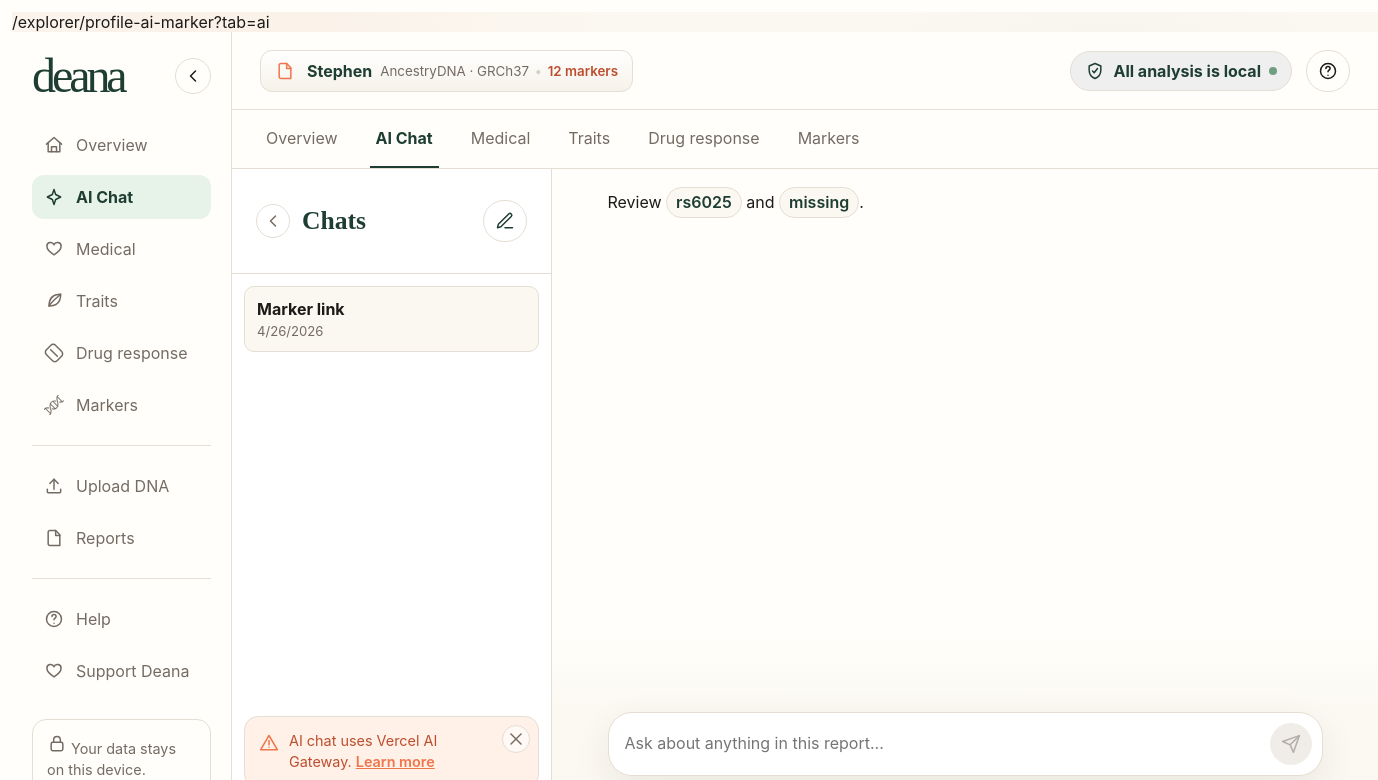
Deana app › opens deana marker chips in the chat inspector
Check: the text "Review rs6025 and missing ." is shown, box [608,187,864,218]
Click the button "rs6025" at coordinates (704, 202), box [666,187,742,218]
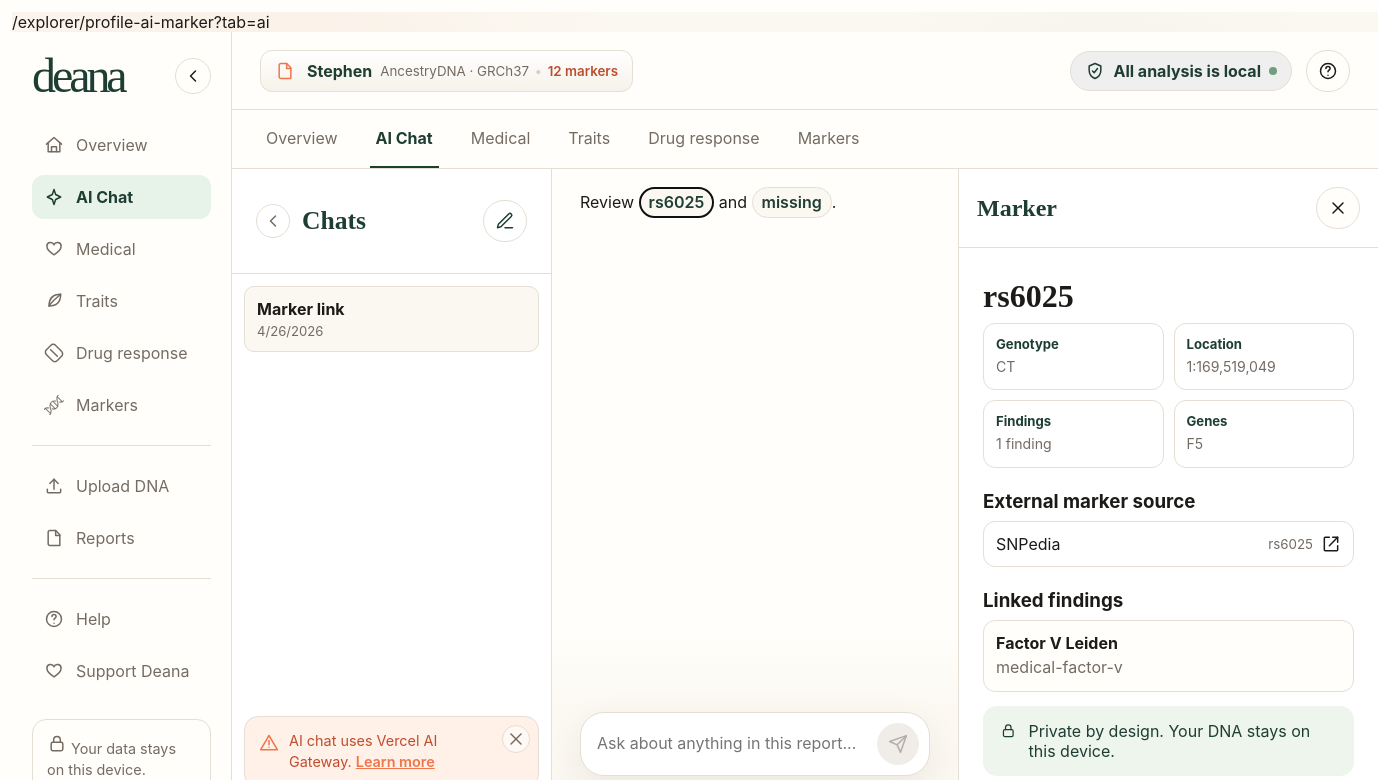
Check: the heading "rs6025" is shown, box [983,278,1074,314]
Click the button "missing" at coordinates (792, 202), box [752,187,832,218]
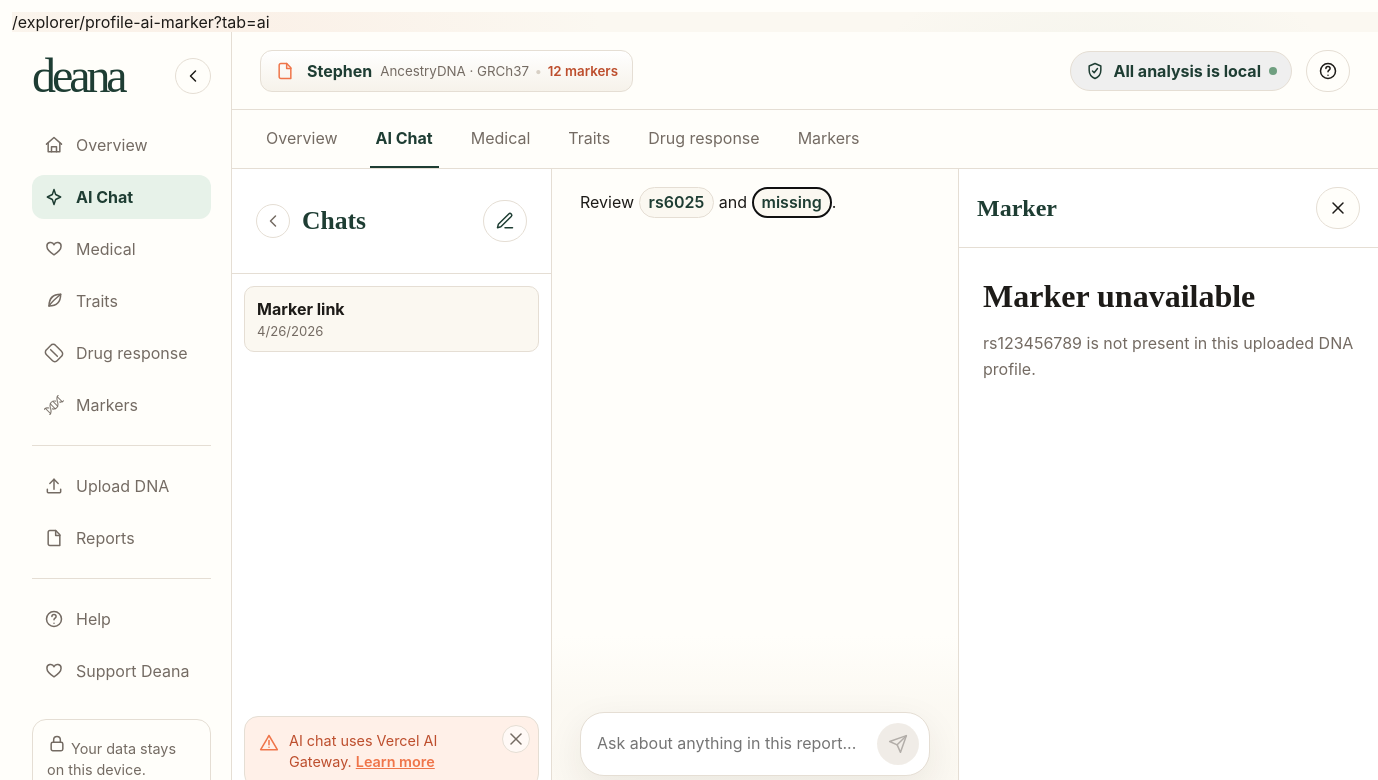
Check: the heading "Marker unavailable" is shown, box [983,278,1255,314]
